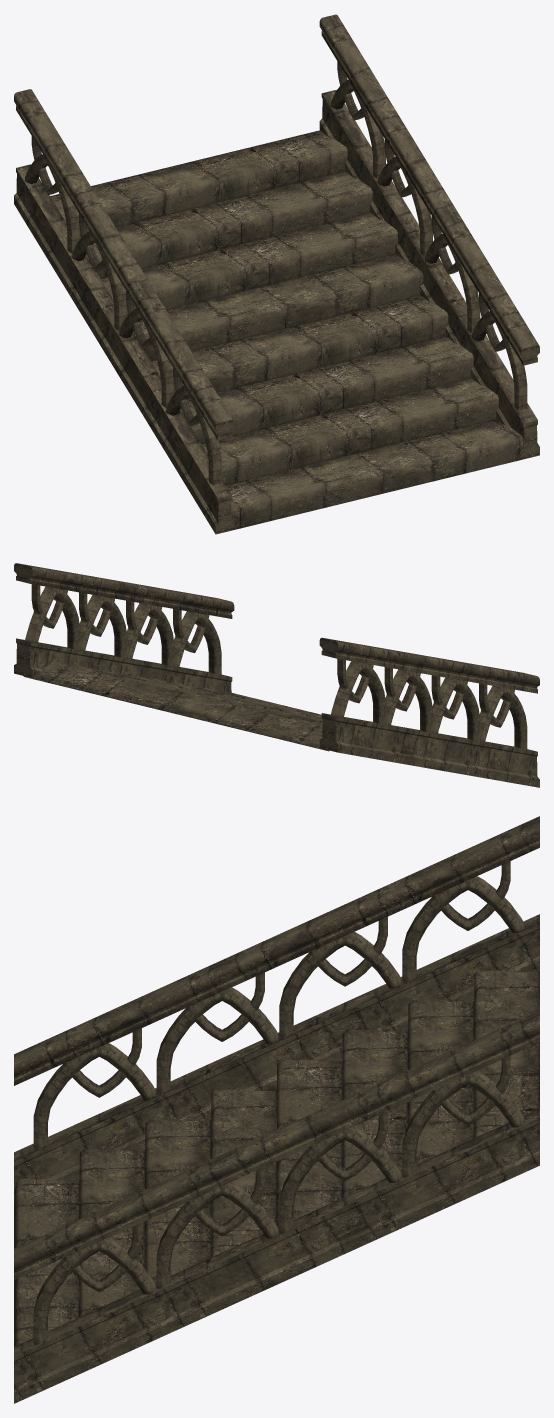
The model's file is NC_stairs.DAE.
3 renders of one model, top to bottom at view 1: azimuth 30°, elevation 25°; view 2: azimuth 150°, elevation 25°; view 3: azimuth 270°, elevation 25°, orthographic. The views are drawn at different scales.
Visible parts, largest first — view 1: NC_stairs; view 2: NC_stairs; view 3: NC_stairs.
Part boxes in pixels (x1=…): NC_stairs: x1=14, y1=14, x2=539, y2=534; NC_stairs: x1=14, y1=563, x2=539, y2=787; NC_stairs: x1=14, y1=816, x2=539, y2=1403.
Bounding box in the file's own units: 3.71 × 4 × 3.22.
